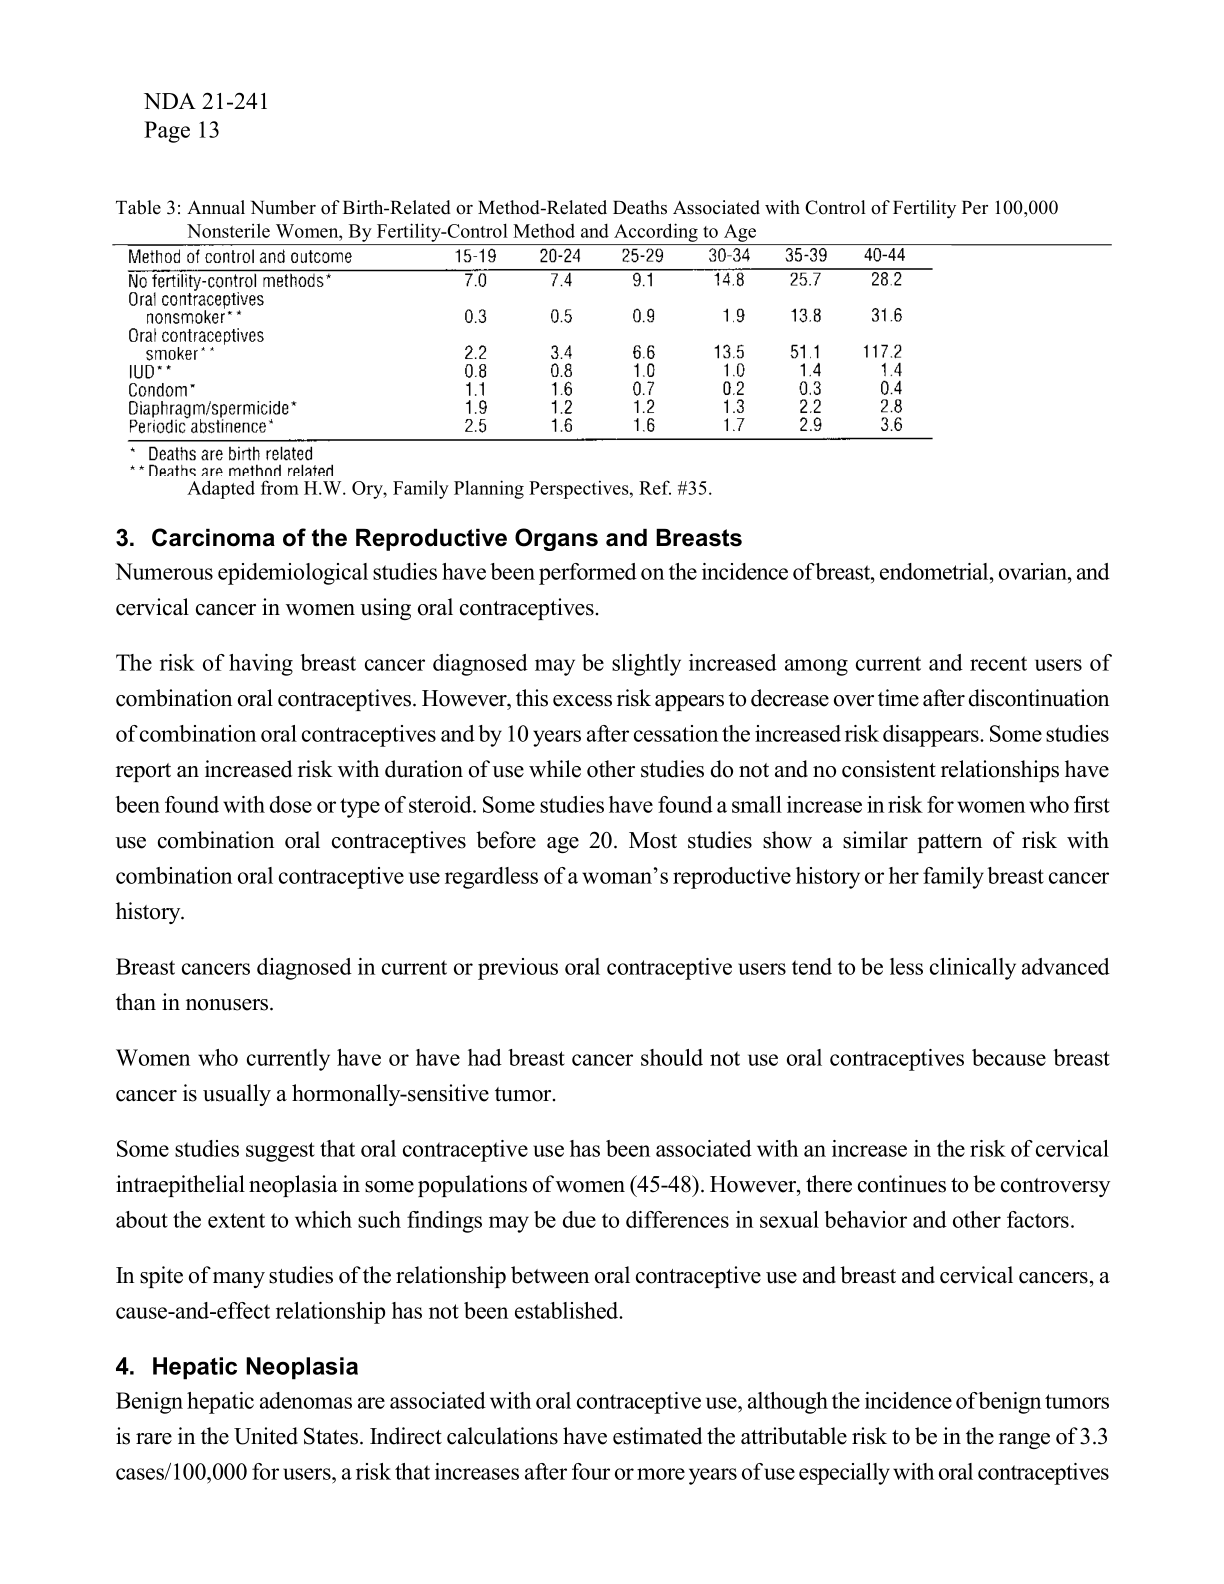partial_lined_merged_cells: (109, 242, 1117, 442)
